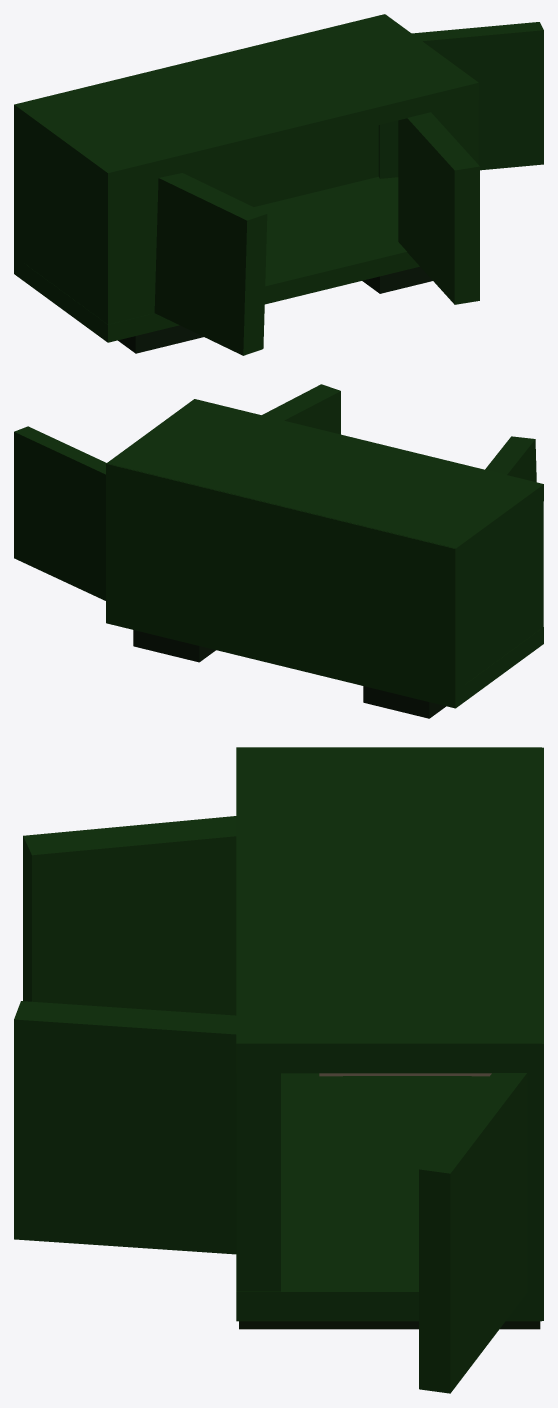
Rendered from container2.fbx.
The picture shows the model from 3 angles, top to bottom: view 1: azimuth 30°, elevation 25°; view 2: azimuth 150°, elevation 25°; view 3: azimuth 270°, elevation 25°; orthographic projection. The views are drawn at different scales.
Visible parts, largest first — view 1: Cube.018, Cube.023, Cube.016, Cube.024, Cube.025, Cube.020, Cube.017, Cube.022, Cube.021, Cube.026, Cube.027; view 2: Cube.017, Cube.018, Cube.025, Cube.020, Cube.024, Cube.023, Cube.016, Cube.026, Cube.027; view 3: Cube.018, Cube.024, Cube.016, Cube.023, Cube.025, Cube.021, Cube.017, Cube.027.
Part boxes in pixels (x1=…): Cube.018: x1=14, y1=14, x2=478, y2=190; Cube.023: x1=154, y1=173, x2=267, y2=355; Cube.016: x1=14, y1=176, x2=419, y2=342; Cube.024: x1=398, y1=112, x2=479, y2=304; Cube.025: x1=378, y1=22, x2=543, y2=178; Cube.020: x1=24, y1=130, x2=107, y2=323; Cube.017: x1=14, y1=14, x2=384, y2=280; Cube.022: x1=107, y1=179, x2=158, y2=324; Cube.021: x1=431, y1=101, x2=478, y2=164; Cube.026: x1=118, y1=325, x2=203, y2=353; Cube.027: x1=362, y1=266, x2=432, y2=293; Cube.017: x1=106, y1=463, x2=464, y2=708; Cube.018: x1=107, y1=399, x2=543, y2=565; Cube.025: x1=14, y1=426, x2=106, y2=600; Cube.020: x1=465, y1=502, x2=543, y2=684; Cube.024: x1=262, y1=384, x2=340, y2=434; Cube.023: x1=485, y1=436, x2=536, y2=482; Cube.016: x1=456, y1=627, x2=543, y2=707; Cube.026: x1=363, y1=686, x2=445, y2=718; Cube.027: x1=133, y1=630, x2=215, y2=662; Cube.018: x1=236, y1=747, x2=541, y2=1073; Cube.024: x1=14, y1=1001, x2=236, y2=1254; Cube.016: x1=236, y1=1073, x2=541, y2=1321; Cube.023: x1=23, y1=816, x2=236, y2=1015; Cube.025: x1=419, y1=1073, x2=527, y2=1393; Cube.021: x1=236, y1=1073, x2=280, y2=1291; Cube.017: x1=511, y1=747, x2=543, y2=1320; Cube.027: x1=239, y1=1321, x2=540, y2=1329.
Bounding box in the file's own units: 5668 × 2050 × 3196.
